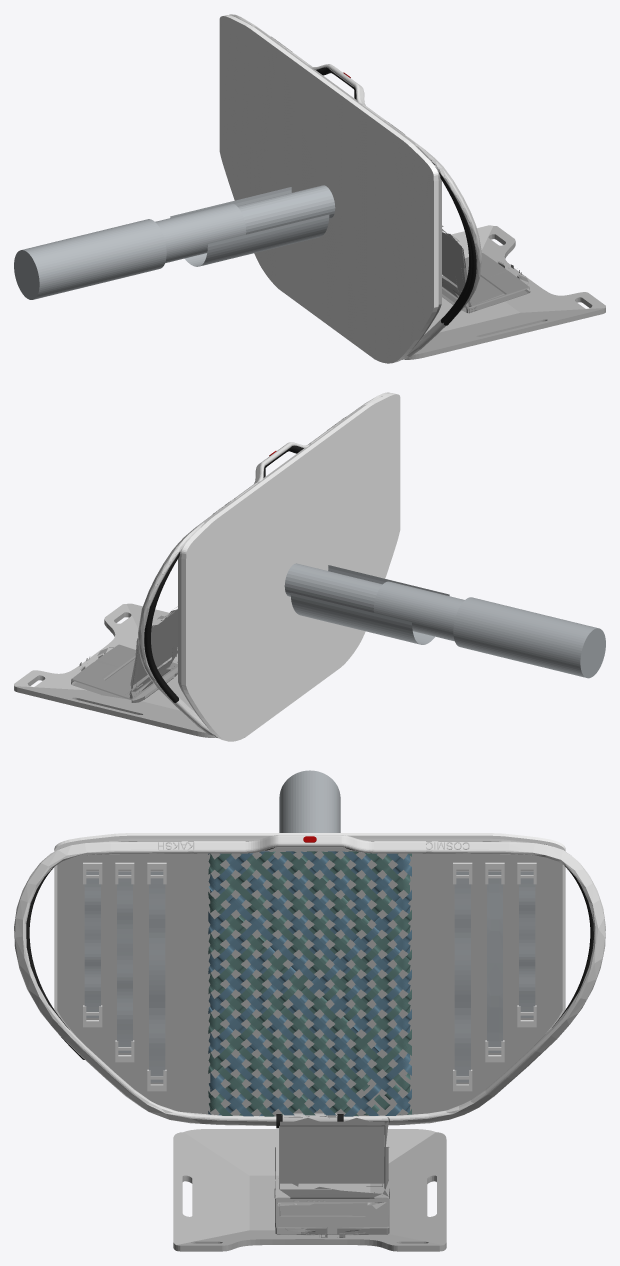
File: cosmic-kaksh-wall.glb
3 renders of one model, top to bottom at view 1: azimuth 30°, elevation 25°; view 2: azimuth 150°, elevation 25°; view 3: azimuth 270°, elevation 25°, orthographic. The views are drawn at different scales.
Visible parts, largest first — view 1: material-6, material--1, material-5, material-105, material-0, material-4, material-106; view 2: material-6, material--1, material-5, material-105, material-0, material-106, material-4; view 3: material-5, material-9, material-8, material--1, material-0, material-106, material-105, material-6, material-4.
Part boxes in pixels (left/top/right/bottom): material-6: left=219, top=15, right=438, bottom=363; material--1: left=14, top=185, right=335, bottom=299; material-5: left=253, top=26, right=605, bottom=359; material-105: left=442, top=225, right=530, bottom=313; material-0: left=229, top=14, right=481, bottom=359; material-4: left=316, top=67, right=476, bottom=325; material-106: left=442, top=232, right=465, bottom=288; material-6: left=181, top=393, right=400, bottom=741; material--1: left=284, top=563, right=605, bottom=678; material-5: left=14, top=404, right=366, bottom=737; material-105: left=71, top=606, right=177, bottom=702; material-0: left=138, top=392, right=390, bottom=738; material-106: left=133, top=610, right=177, bottom=684; material-4: left=144, top=445, right=303, bottom=702; material-5: left=57, top=838, right=562, bottom=1251; material-9: left=208, top=851, right=411, bottom=1116; material-8: left=208, top=851, right=411, bottom=1116; material--1: left=84, top=770, right=535, bottom=1082; material-0: left=14, top=835, right=605, bottom=1125; material-106: left=280, top=1121, right=384, bottom=1183; material-105: left=274, top=1115, right=389, bottom=1237; material-6: left=54, top=833, right=565, bottom=1035; material-4: left=26, top=847, right=593, bottom=1128.
Size of the model in its own units: 2.25 by 1.07 by 1.84.
